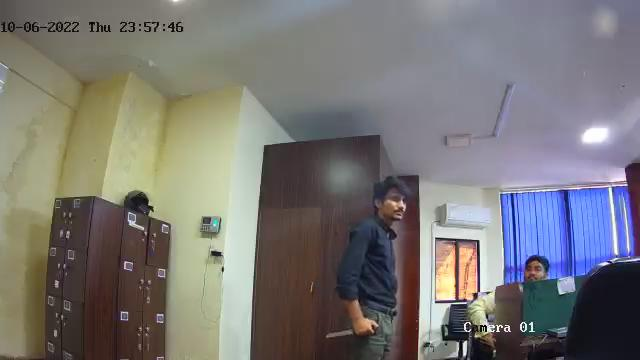knives: (320, 322, 375, 339)
